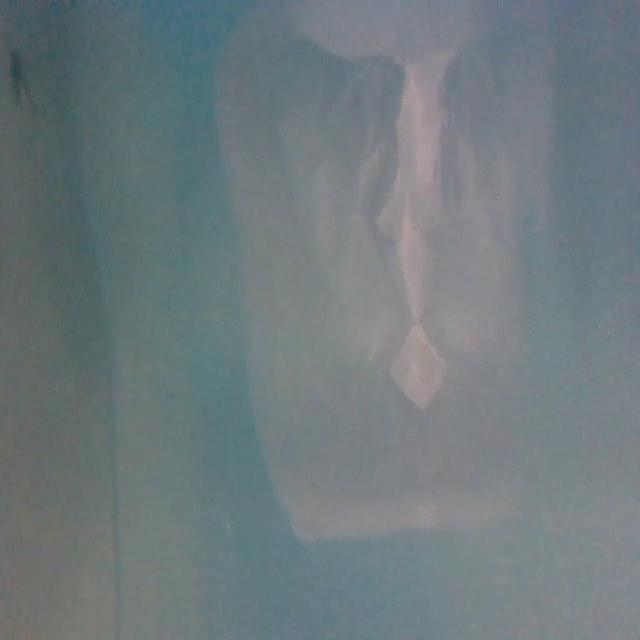plastic bags: (223, 0, 572, 560)
